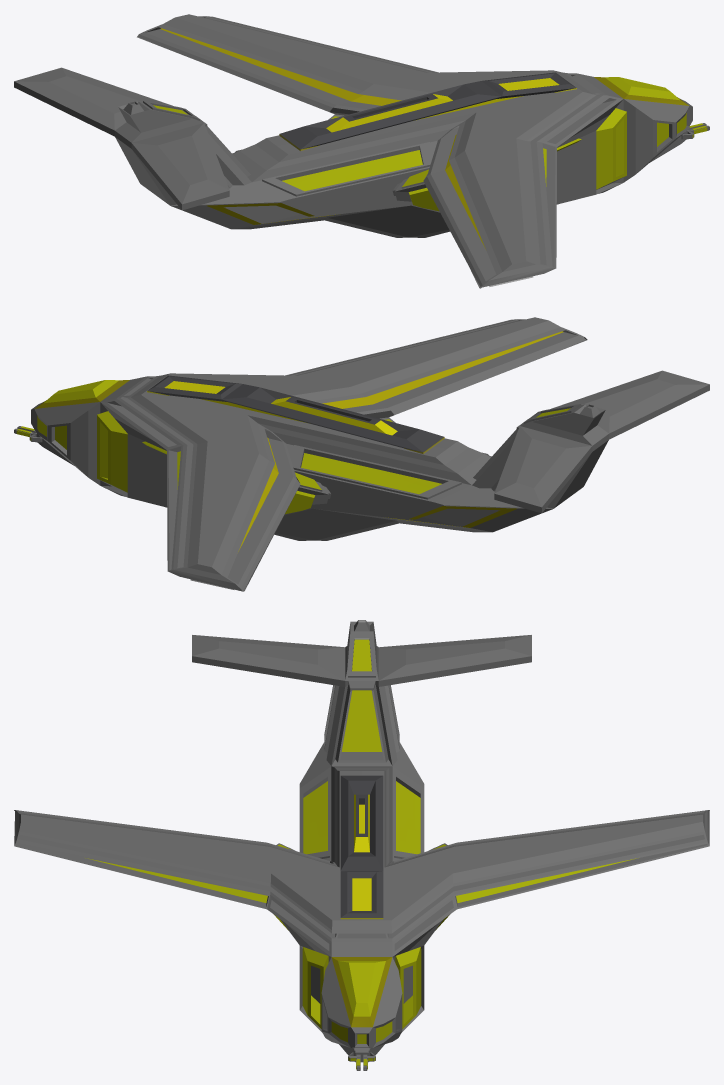
Rendered from Heavy.fbx.
3 renders of one model, top to bottom at view 1: azimuth 30°, elevation 25°; view 2: azimuth 150°, elevation 25°; view 3: azimuth 270°, elevation 25°, orthographic.
Visible parts, largest first — view 1: Cube; view 2: Cube; view 3: Cube.
Boxes of the visible parts, x1,y1,x2,y2 form: Cube: [14, 14, 709, 288]; Cube: [14, 317, 709, 591]; Cube: [14, 620, 709, 1070].
Size of the model in its own units: 1688 by 510 by 1652.
